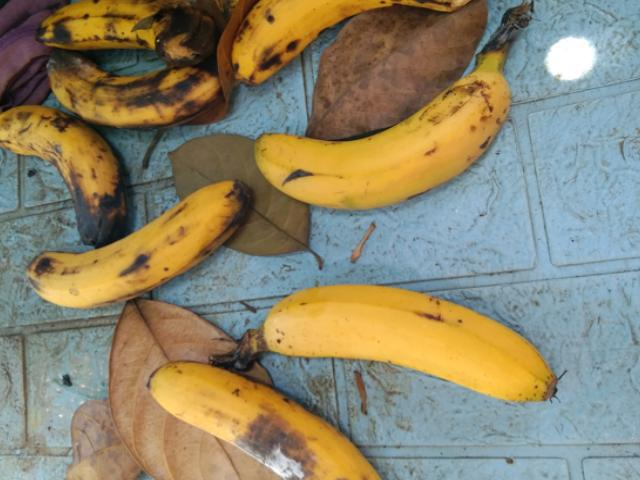freshripe: (241, 66, 564, 228), (246, 269, 574, 409)
ripe: (11, 178, 252, 326), (142, 360, 396, 479), (231, 0, 495, 87)
rotten: (2, 94, 128, 240), (33, 50, 226, 139), (33, 0, 210, 58)
